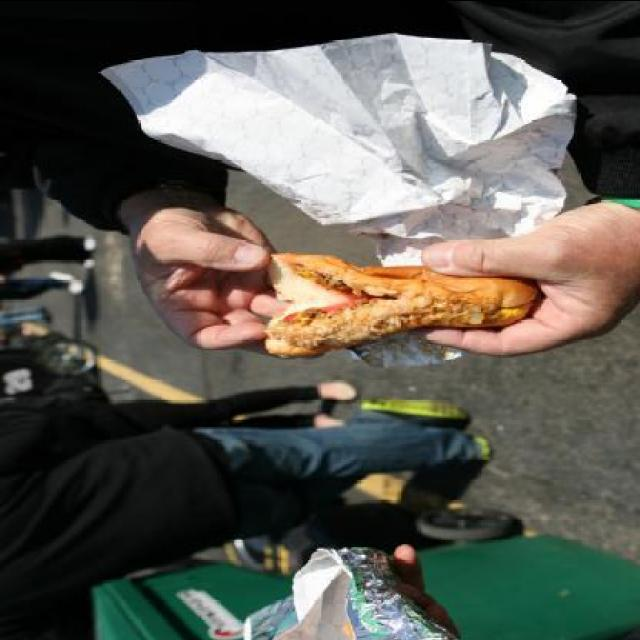Hot dog: (244, 234, 548, 352)
